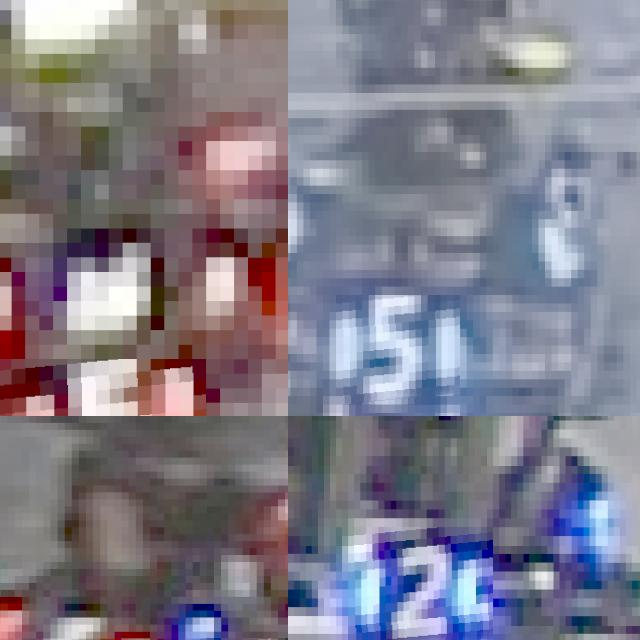B2: (348, 527, 493, 640)
B5: (336, 295, 460, 405)
R1: (0, 596, 157, 640)
R5: (0, 359, 206, 416)
